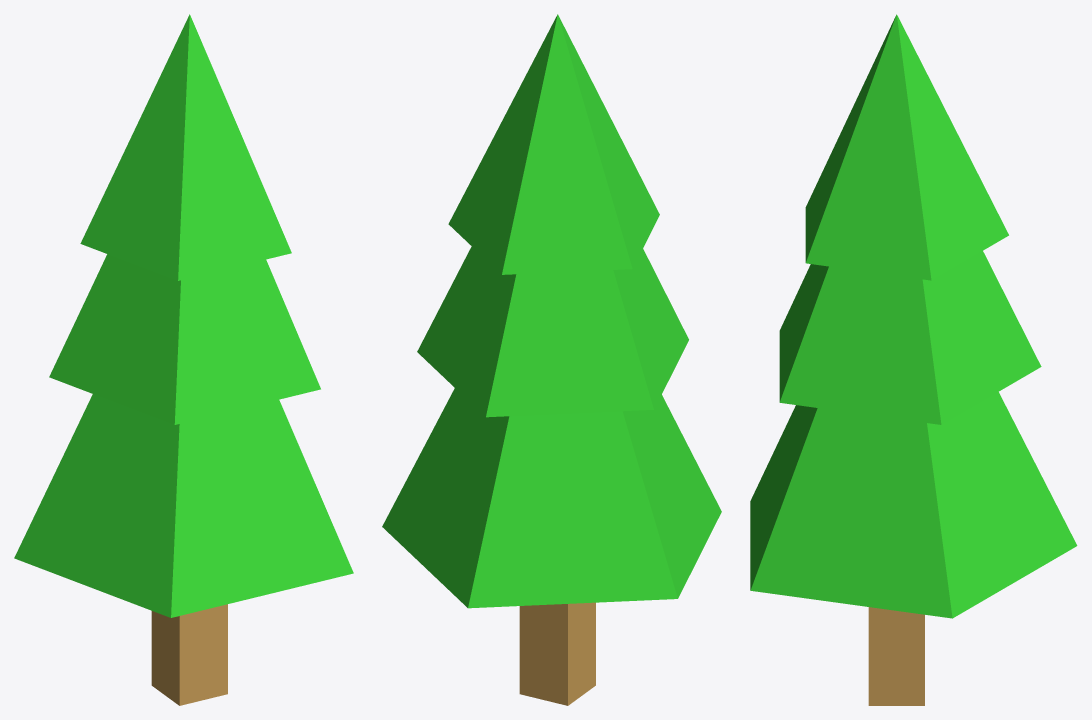
File: Big Tree.fbx
The picture shows the model from 3 angles, left to right: view 1: azimuth 30°, elevation 25°; view 2: azimuth 150°, elevation 25°; view 3: azimuth 270°, elevation 25°; orthographic projection.
Visible parts, largest first — view 1: Cone.001; view 2: Cone.001; view 3: Cone.001.
Boxes of the visible parts, x1,y1,x2,y2 form: Cone.001: [14, 14, 353, 705]; Cone.001: [382, 14, 721, 705]; Cone.001: [750, 14, 1077, 705].
Size of the model in its own units: 1.74 by 1.83 by 4.
